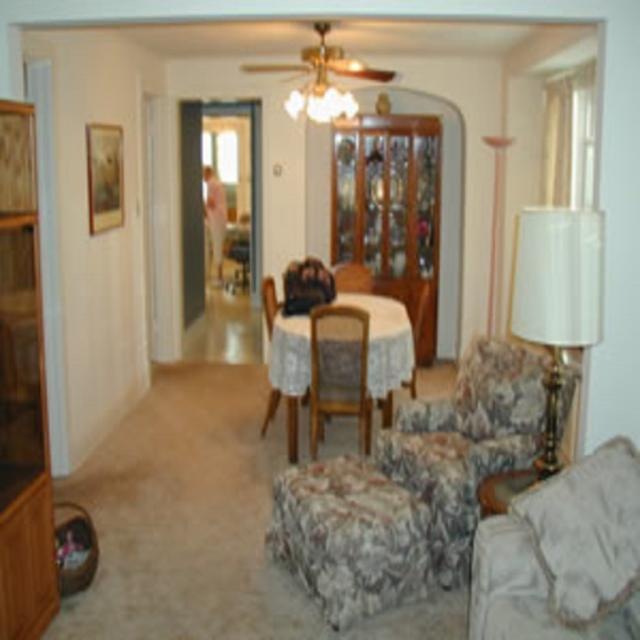fan_off: (242, 22, 394, 94)
